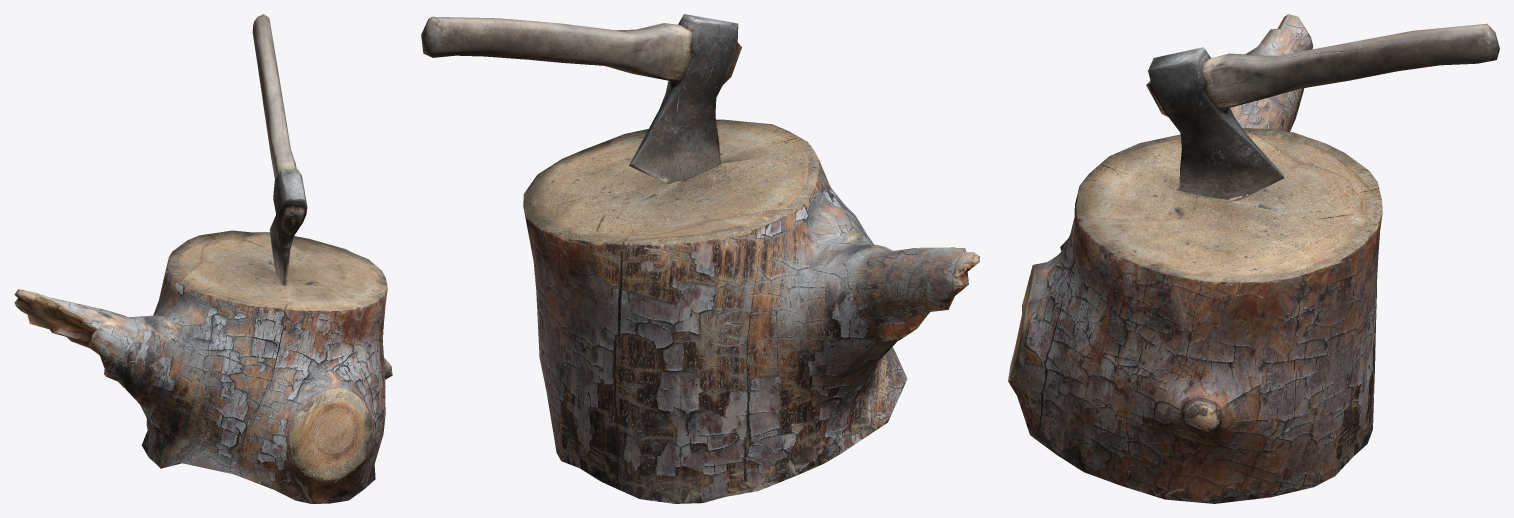
File: Forest_stump_10.FBX
3 views of the same model, side by side, from view 1: azimuth 30°, elevation 25°; view 2: azimuth 150°, elevation 25°; view 3: azimuth 270°, elevation 25° (orthographic). The views are drawn at different scales.
Visible parts, largest first — view 1: Forest_stump_10; view 2: Forest_stump_10; view 3: Forest_stump_10.
Boxes of the visible parts, x1,y1,x2,y2 form: Forest_stump_10: [14, 14, 392, 503]; Forest_stump_10: [421, 14, 979, 503]; Forest_stump_10: [1008, 14, 1499, 503].
Size of the model in its own units: 1.7 by 1.7 by 1.57.
1 material, 1 textured.
